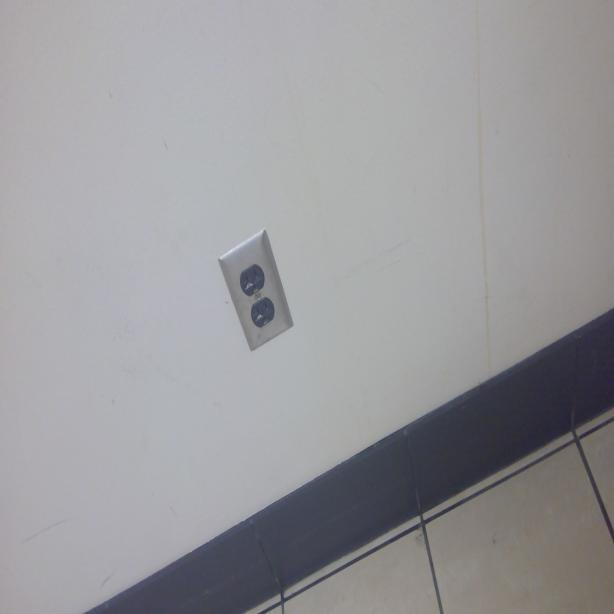typeb: (240, 264, 264, 298), (252, 300, 276, 326)
